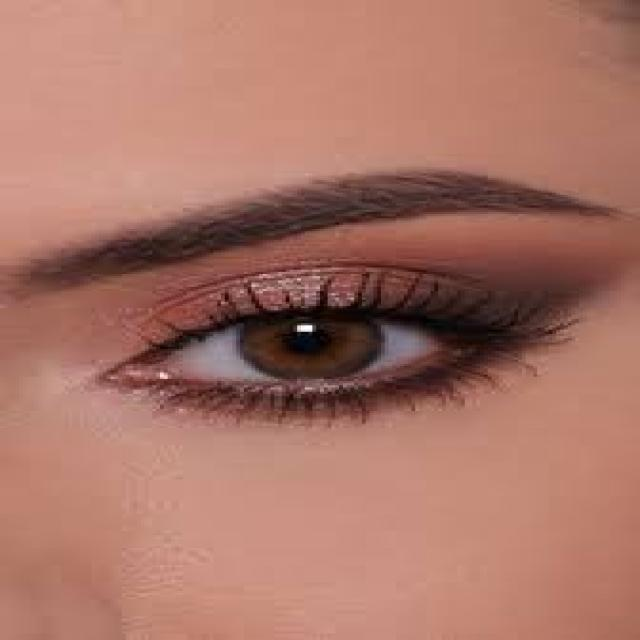Eyes-iris: (214, 310, 395, 386)
